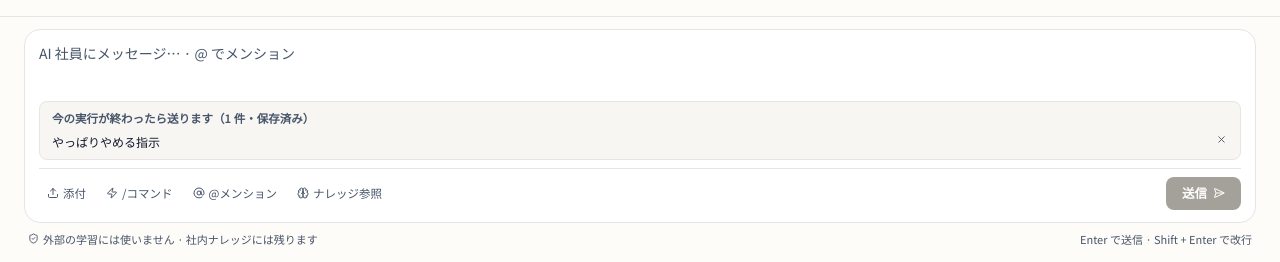
it: GAP-189 実行中の追い足し指示 › 待ちの指示は取り消せる
Click the button named "あとで送る指示を取り消す: やっぱりやめる指示" at (1222, 139), box [1215,133,1228,146]
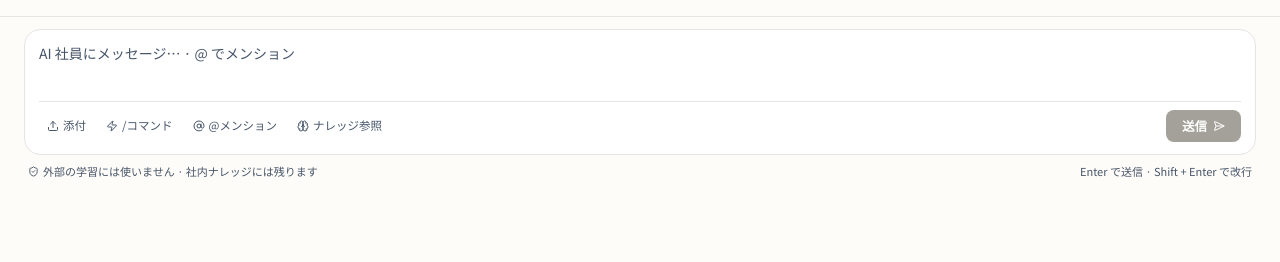
expect the text "やっぱりやめる指示" is gone: met
